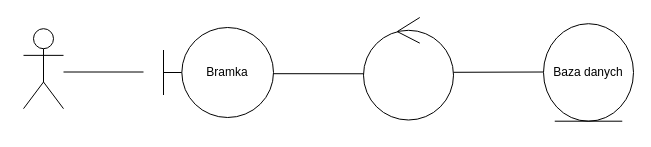
Some shapes in this 651 by 147 pixel diagram are drawn without their labels. The shapes that lost their labels are listed below. From the top down, each one's centre as x and y in pixels, then its label:
At (x=43, y=68): "Paseczek".
At (x=408, y=68): "Identyfikacja".
